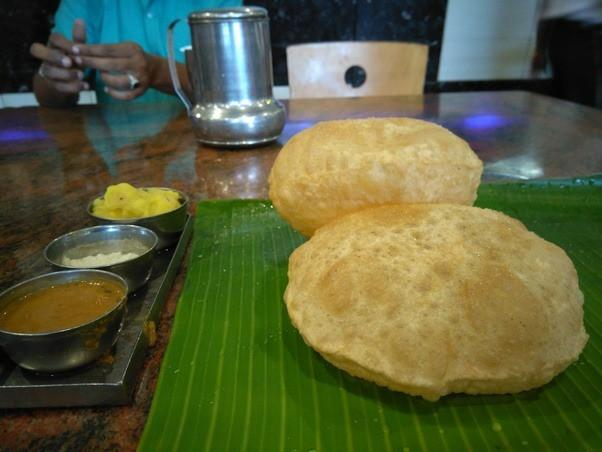Bhatura: (284, 201, 588, 403), (269, 117, 484, 239)
